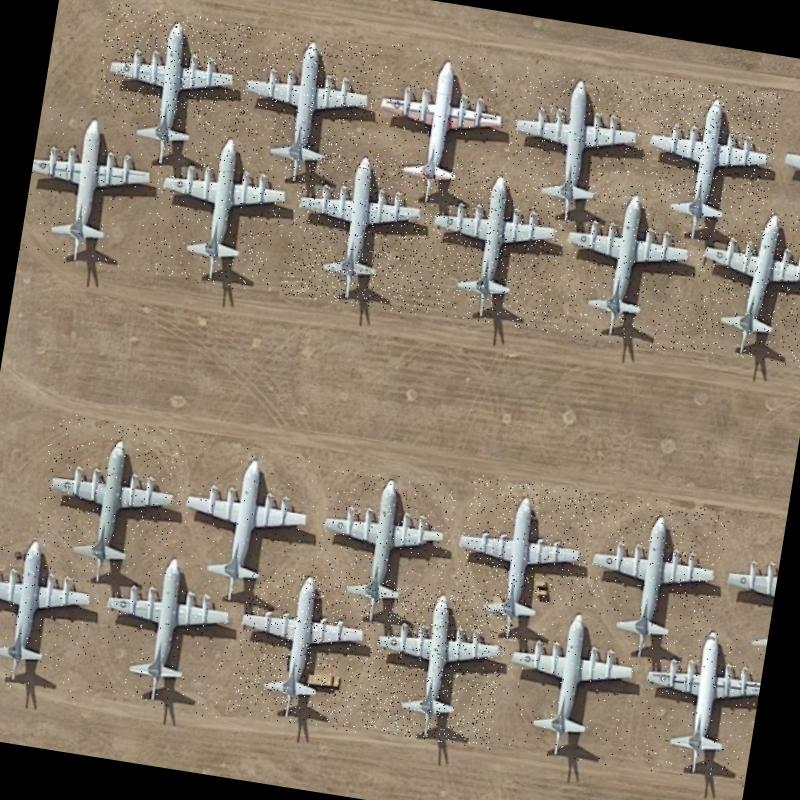A9: (28, 411, 192, 593), (86, 2, 256, 177), (166, 438, 330, 618), (80, 542, 241, 718), (279, 144, 440, 316), (551, 179, 709, 354), (578, 491, 730, 670), (496, 64, 656, 234), (358, 576, 514, 750), (631, 74, 784, 251), (493, 599, 650, 771), (142, 120, 296, 295), (446, 473, 598, 650), (18, 98, 166, 277), (416, 162, 571, 332), (308, 464, 460, 634), (362, 43, 513, 213), (227, 566, 379, 734), (231, 26, 384, 188), (631, 620, 766, 788), (681, 198, 800, 368), (0, 532, 103, 699)
